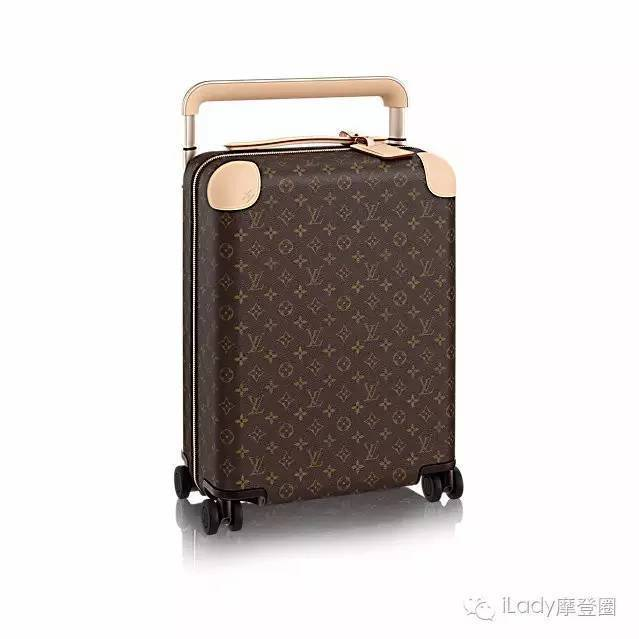luggage: (170, 74, 467, 536)
